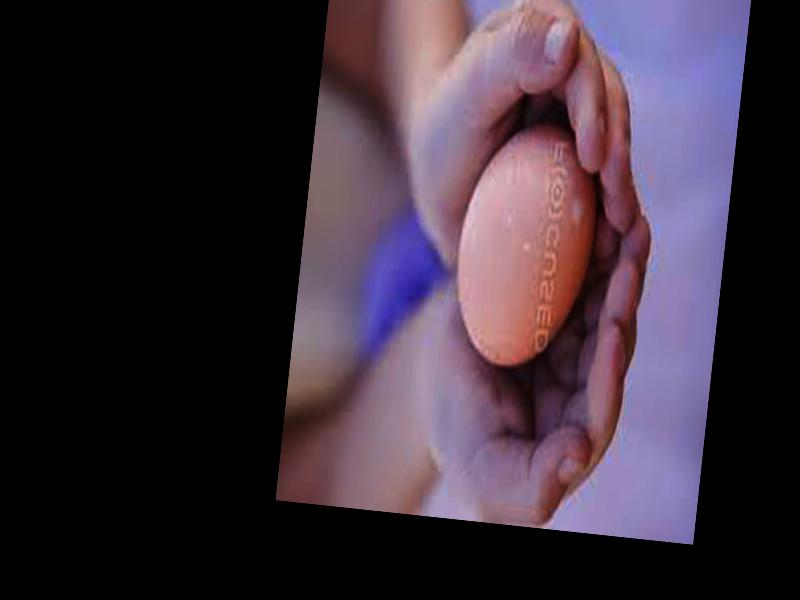Eggs: (445, 118, 605, 379)
